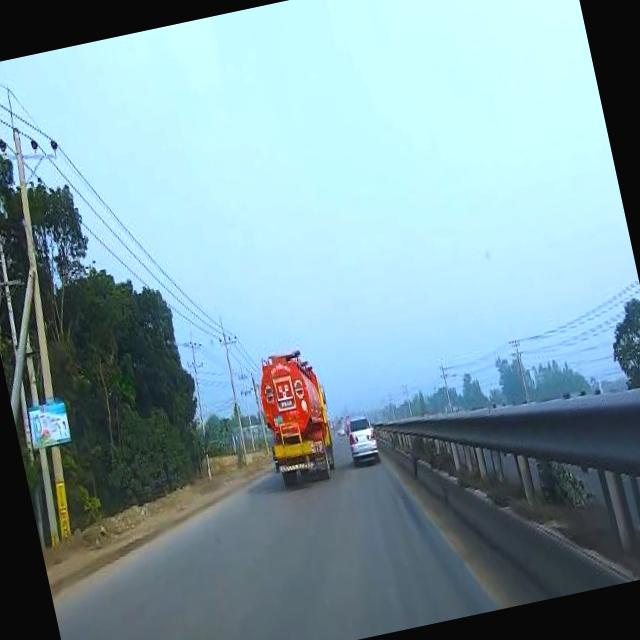car: (341, 408, 379, 464)
truck: (249, 339, 338, 485)
